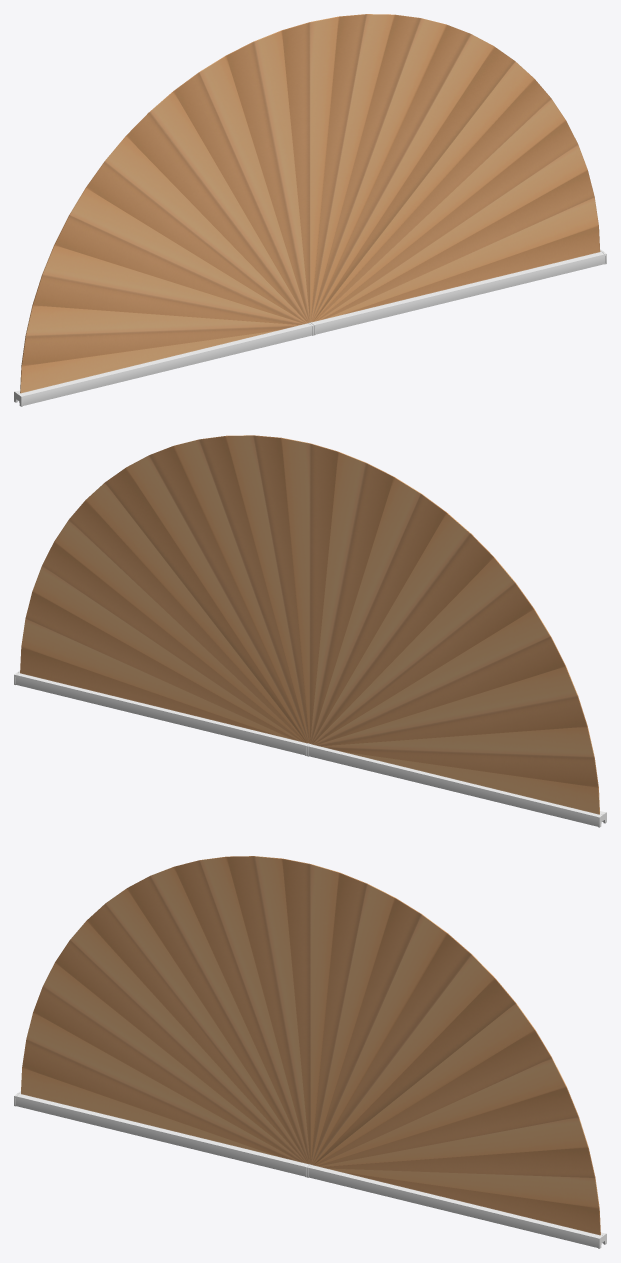
3 views of the same model, one above another, from view 1: azimuth 30°, elevation 25°; view 2: azimuth 150°, elevation 25°; view 3: azimuth 330°, elevation 25° (orthographic).
Parts seen in each view (by area): view 1: Circle.001, Cube.012, Cube.001; view 2: Circle.001, Cube.012, Cube.001; view 3: Circle.001, Cube.001, Cube.012.
Boxes of the visible parts, <box> form: Circle.001: <box>20,14,600,393</box>; Cube.012: <box>16,323,311,405</box>; Cube.001: <box>313,251,604,334</box>; Circle.001: <box>20,435,599,814</box>; Cube.012: <box>309,744,604,826</box>; Cube.001: <box>16,672,307,755</box>; Circle.001: <box>21,856,600,1235</box>; Cube.001: <box>309,1165,604,1247</box>; Cube.012: <box>16,1093,307,1176</box>.
Bounding box in the file's own units: 0.9998 × 0.5064 × 0.0219.
Materials: 2 (1 with a texture image).
